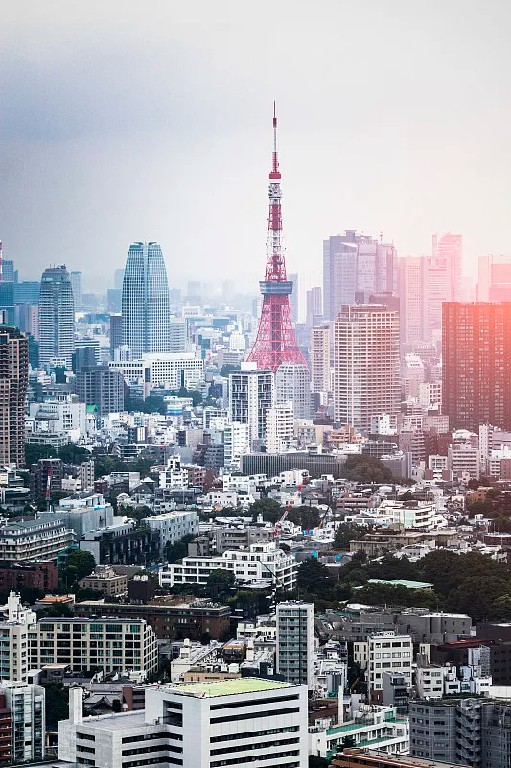Tokyo: (245, 97, 309, 369)
